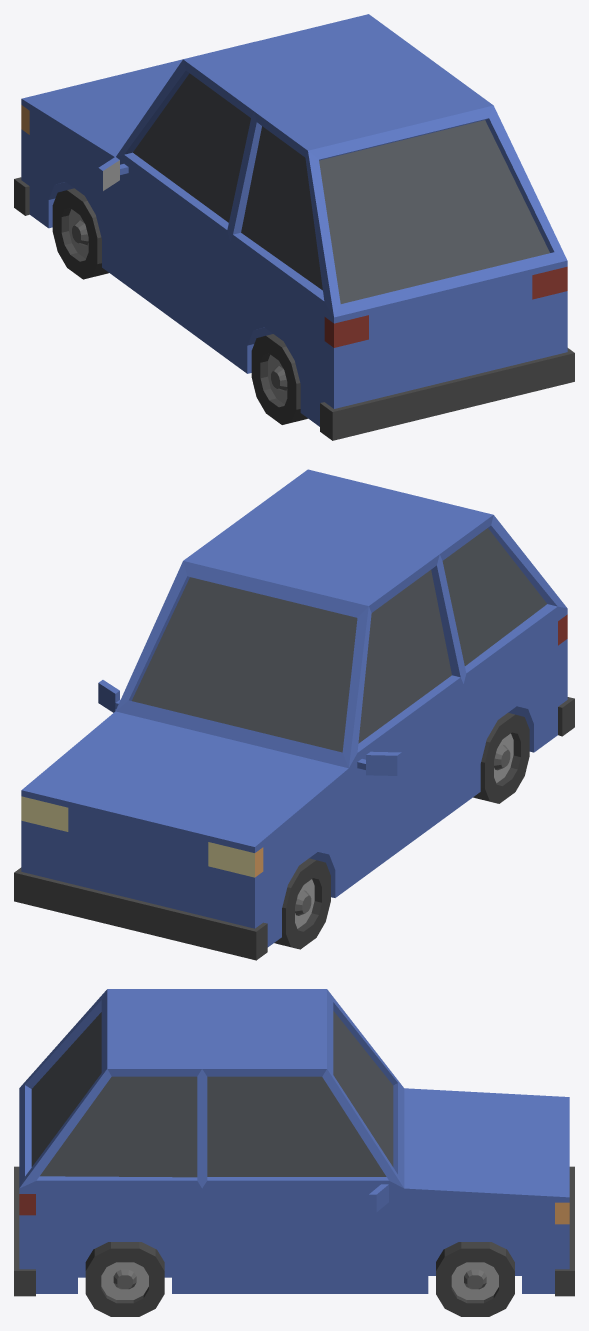
Rendered from car02.fbx.
3 views of the same model, one above another, from view 1: azimuth 30°, elevation 25°; view 2: azimuth 150°, elevation 25°; view 3: azimuth 270°, elevation 25° (orthographic). The views are drawn at different scales.
Visible parts, largest first — view 1: car004, tire02, tire04; view 2: car004, tire04, tire02; view 3: car004, tire03, tire01.
Part boxes in pixels (bbox=[...]): car004: bbox=[14, 14, 574, 440]; tire02: bbox=[52, 188, 108, 279]; tire04: bbox=[251, 334, 307, 424]; car004: bbox=[14, 469, 574, 960]; tire04: bbox=[473, 713, 529, 803]; tire02: bbox=[274, 858, 330, 949]; car004: bbox=[14, 989, 574, 1296]; tire03: bbox=[85, 1242, 164, 1316]; tire01: bbox=[436, 1242, 514, 1316].
Bounding box in the file's own units: 256 × 473 × 221.
